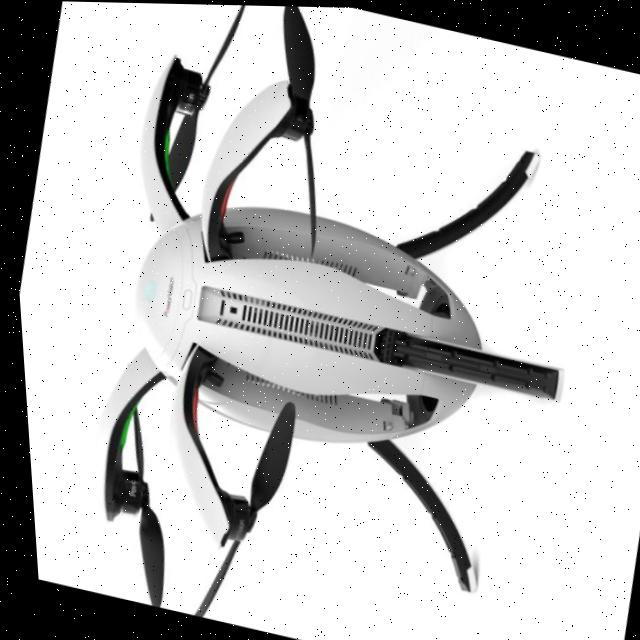drones: (27, 0, 640, 640)
